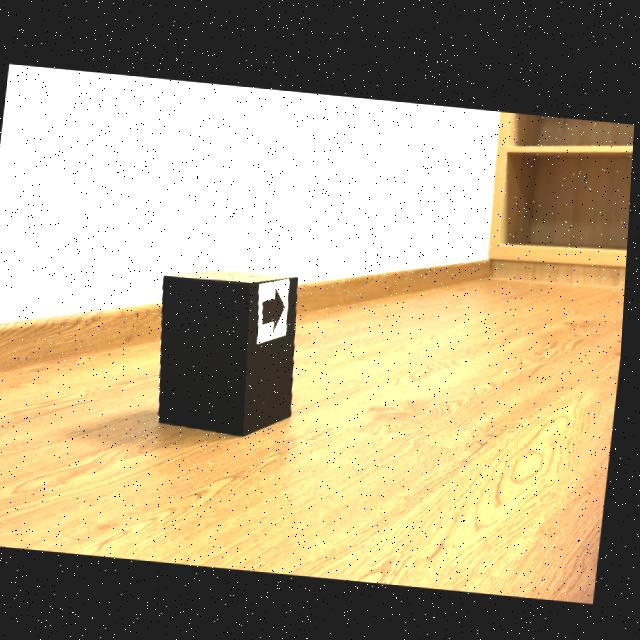RIGHT: (266, 287, 289, 328)
